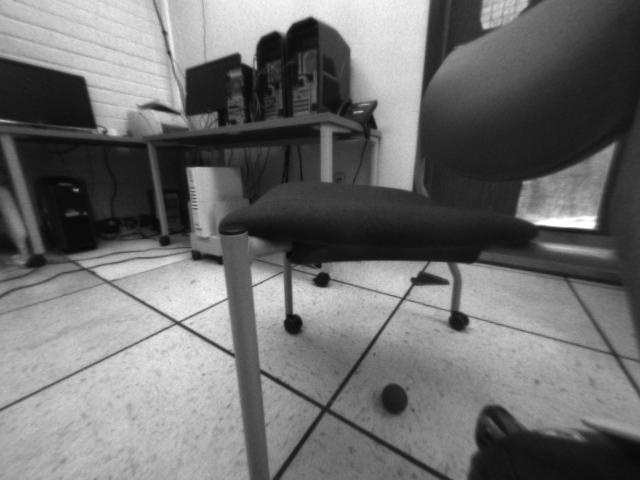dogtoy: (374, 376, 413, 418)
